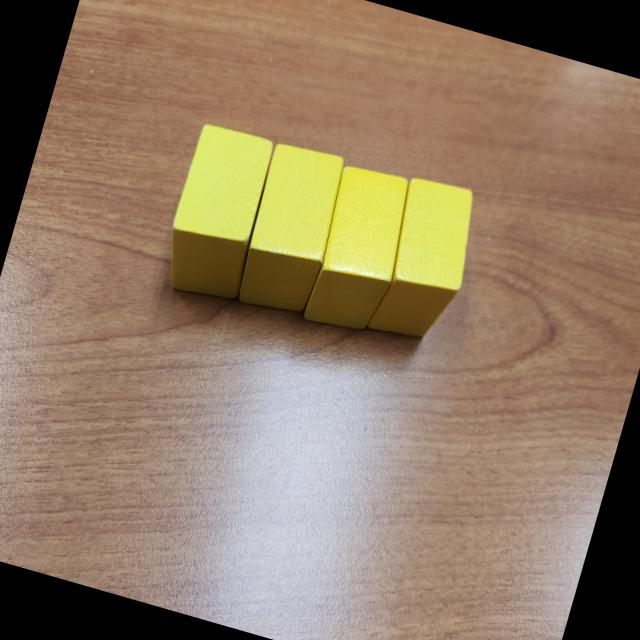yellow: (154, 120, 282, 307), (231, 136, 354, 321), (363, 172, 488, 352), (298, 160, 419, 342)
